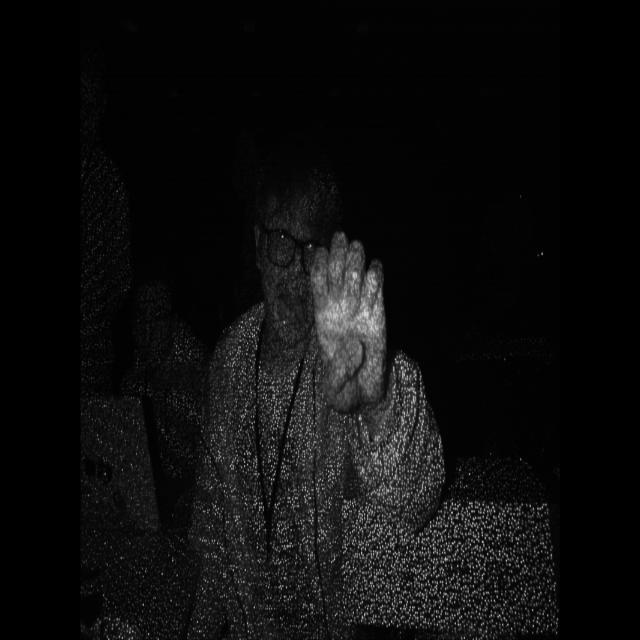E: (305, 214, 415, 448)
